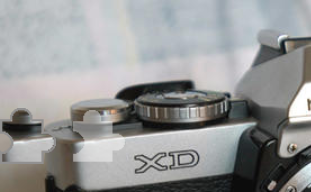target: (62, 104, 134, 165)
